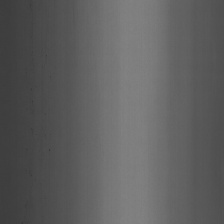inclusion: (29, 10, 35, 74), (26, 82, 34, 95), (46, 144, 53, 154)
